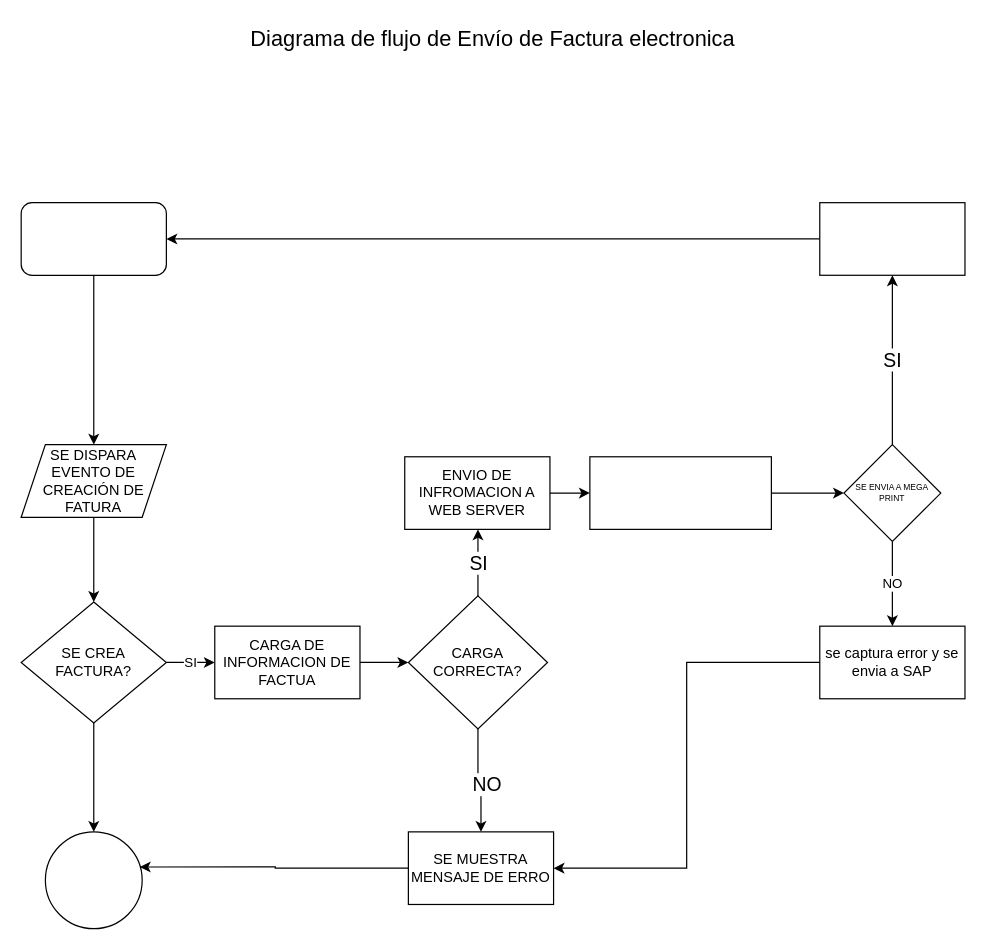
Some shapes in this 986 by 950 pixel diagram are drawn without their labels. Here are the shapes that lost their labels. From the top down, the centre of each, then its label:
At point 93,238: "Addon de SAP".
At point 892,238: "SE RECIBE RESPUESA Y SE ENVIA AL ADDON".
At point 680,492: "SE RECOLECTA LA INFO EN EL WEB SERVER Y SE ARMA EL XML ENVIO A MEGA PRINT".
At point 93,880: "FIN".
